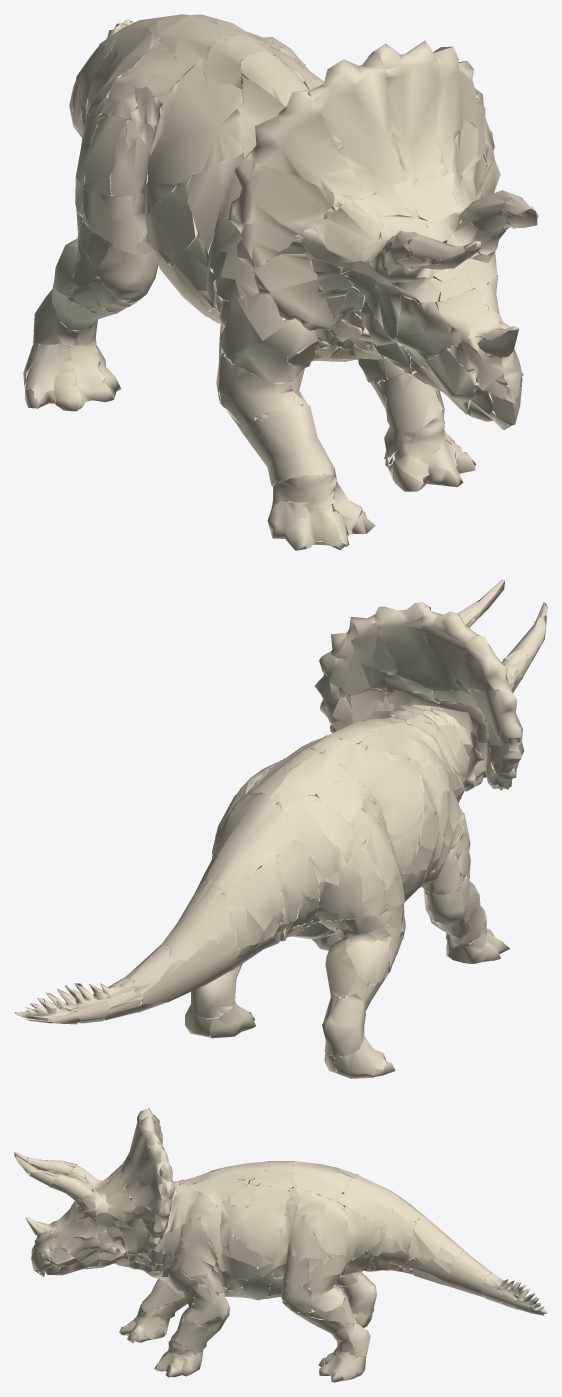
Rendered from triceratops_skeleton.glb.
The picture shows the model from 3 angles, top to bottom: view 1: azimuth 30°, elevation 25°; view 2: azimuth 150°, elevation 25°; view 3: azimuth 270°, elevation 25°; orthographic projection. The views are drawn at different scales.
Parts seen in each view (by area): view 1: frill__part, torso__part, leg_l__part, skull__part, torso__part.001, leg_r__part, tail__part; view 2: torso__part, tail__part, frill__part, leg_l__part, torso__part.001, leg_r__part, skull__part; view 3: torso__part, leg_r__part, torso__part.001, frill__part, tail__part, skull__part, leg_l__part.
Boxes of the visible parts, left/top/right/bottom form: frill__part: left=228, top=40, right=538, bottom=282; torso__part: left=75, top=15, right=494, bottom=362; leg_l__part: left=23, top=173, right=383, bottom=550; skull__part: left=269, top=240, right=523, bottom=517; torso__part.001: left=73, top=14, right=508, bottom=533; leg_r__part: left=85, top=19, right=483, bottom=490; tail__part: left=69, top=15, right=249, bottom=192; torso__part: left=215, top=622, right=520, bottom=939; tail__part: left=142, top=793, right=346, bottom=1004; frill__part: left=329, top=579, right=547, bottom=751; leg_l__part: left=275, top=780, right=509, bottom=1078; torso__part.001: left=108, top=617, right=523, bottom=1014; leg_r__part: left=14, top=765, right=432, bottom=1038; skull__part: left=390, top=693, right=515, bottom=812; torso__part: left=142, top=1152, right=344, bottom=1298; leg_r__part: left=57, top=1258, right=547, bottom=1382; torso__part.001: left=48, top=1145, right=508, bottom=1359; frill__part: left=14, top=1108, right=162, bottom=1232; tail__part: left=345, top=1172, right=489, bottom=1282; skull__part: left=25, top=1190, right=141, bottom=1342; leg_l__part: left=115, top=1230, right=376, bottom=1339.
Size of the model in its own units: 1.15 by 1.59 by 3.3.
